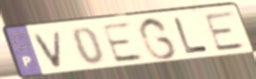0: (71, 26, 108, 68)
E: (99, 20, 147, 65), (202, 9, 250, 54)
G: (136, 16, 179, 62)
L: (172, 16, 211, 56)
V: (31, 29, 65, 70)
